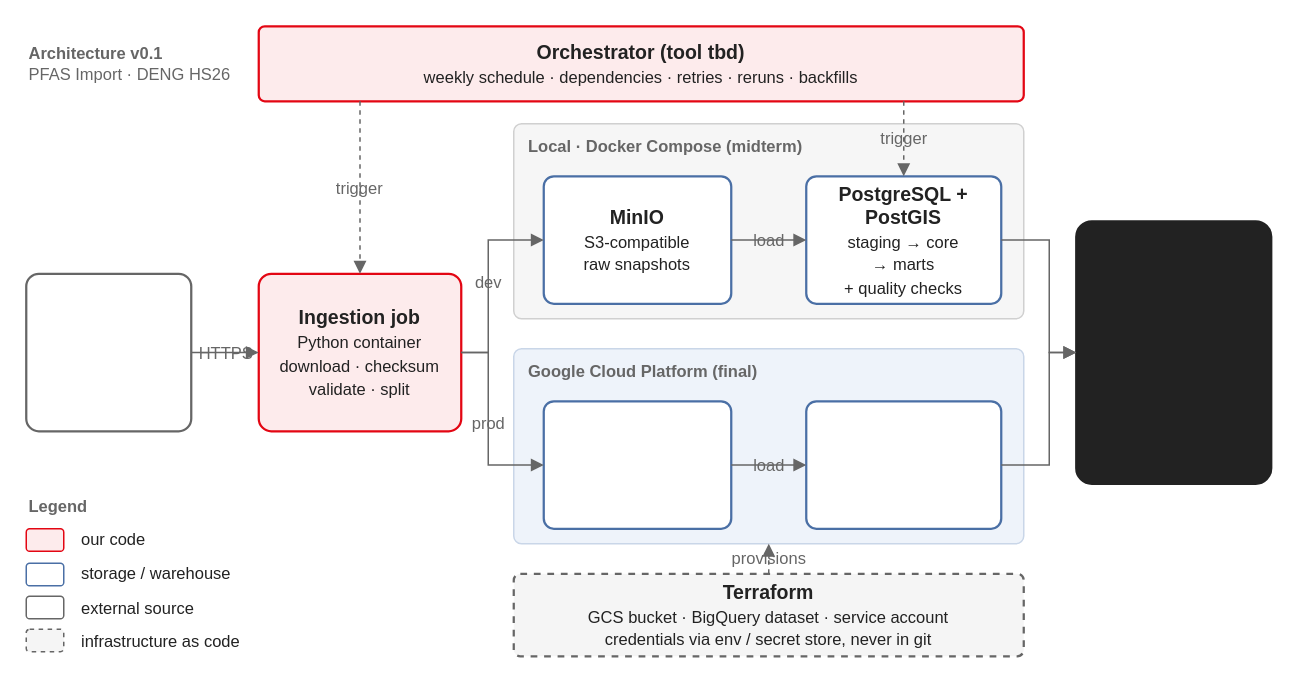
Image size: 1299x684. Some labels were removed from this diagram. The centre of each missing label's shape, as x and y in pixels:
"BigQuery staging → core → marts + quality checks" belongs at point (903, 464).
"Cloud Storage data lake raw snapshots" belongs at point (637, 464).
"Data scientists, ML engineers query star schema and feature table" belongs at point (1173, 351).
"PFAS Data Hub CNRS full.parquet ≈ 1.3 M rows" belongs at point (108, 352).
